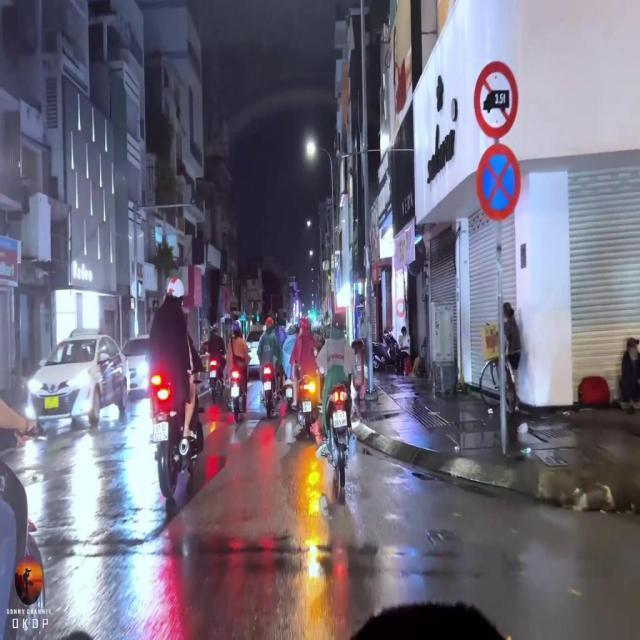106-cam-oto-tai: (474, 61, 518, 140)
130-cam-dung-va-do-xe: (476, 143, 522, 220)
